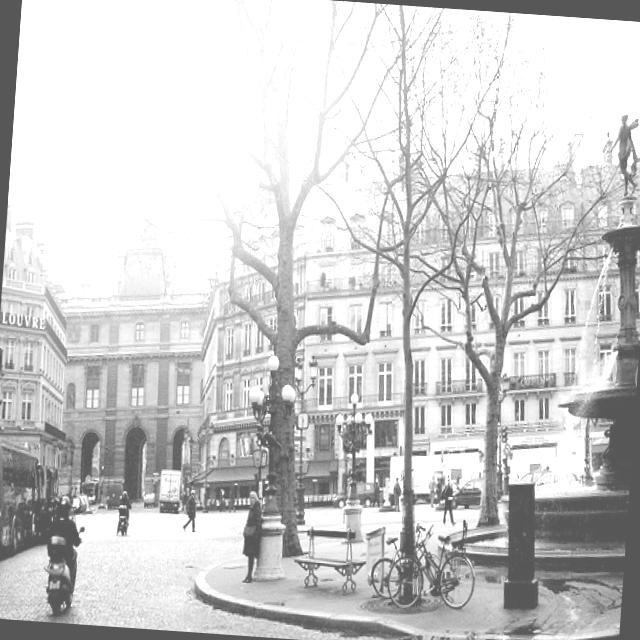Vehicle: (0, 435, 50, 568), (42, 534, 82, 616), (332, 479, 375, 512), (536, 468, 580, 498), (451, 477, 483, 512), (158, 468, 182, 514), (104, 482, 124, 511), (115, 504, 128, 534)
